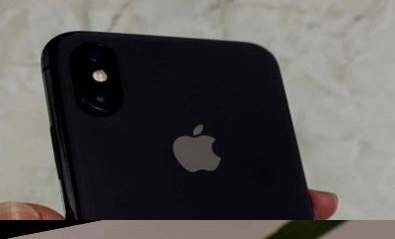scratch: (30, 17, 91, 68)
